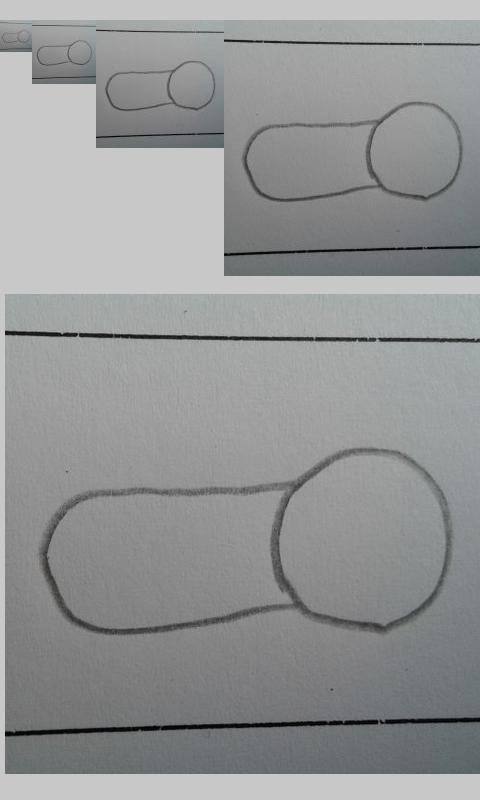switch: (39, 445, 455, 639), (241, 101, 465, 204), (105, 59, 216, 111), (36, 39, 93, 66), (2, 29, 31, 44)
